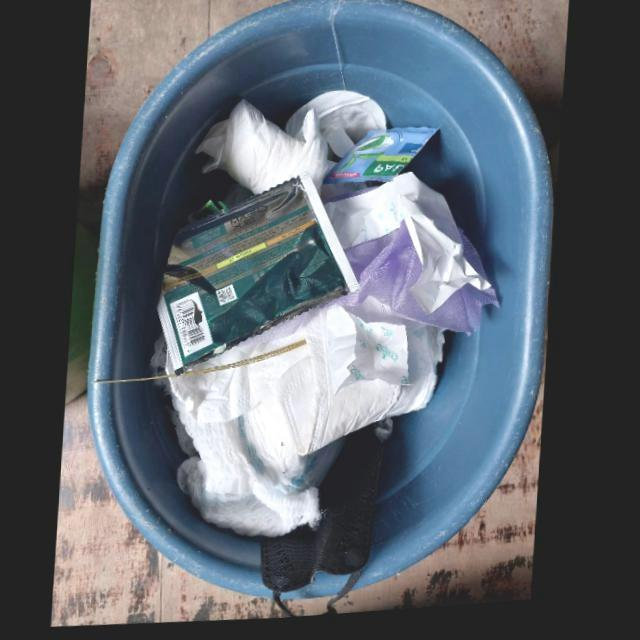plastic_sachet: (159, 176, 362, 378), (323, 133, 440, 189)
